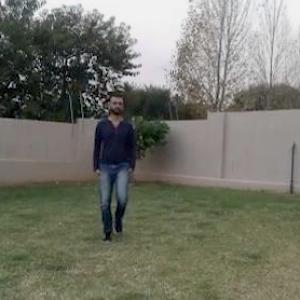follow: (95, 91, 133, 240)
